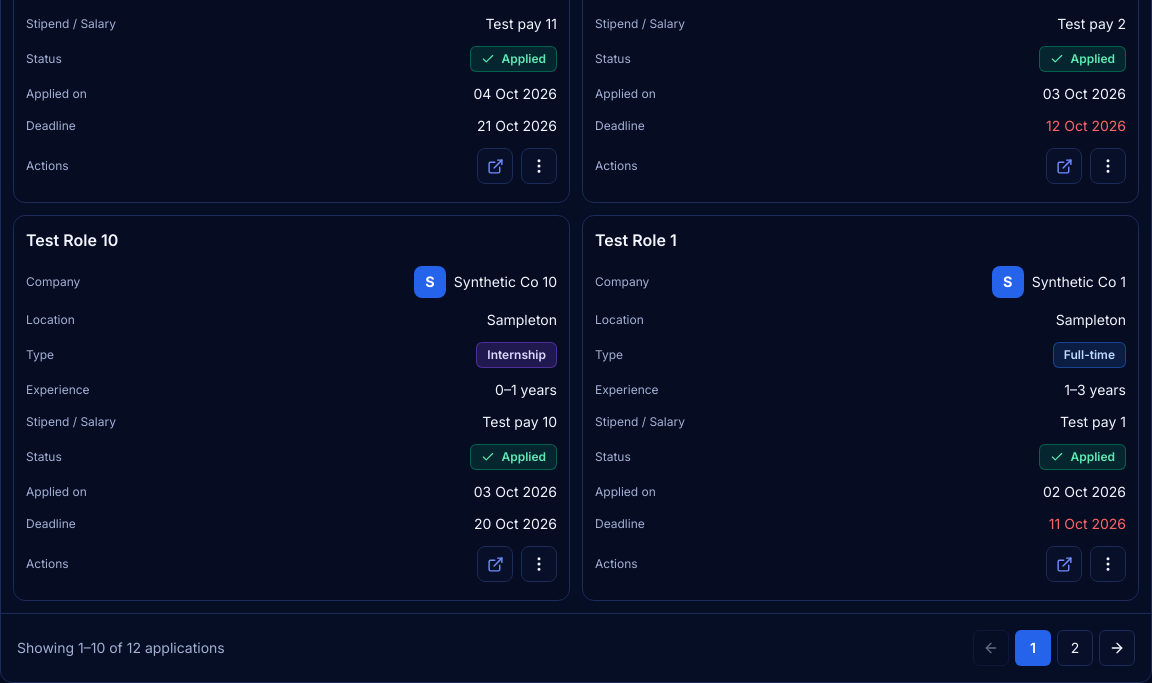
Test case: My Applications: table › paginates long lists
(page scrolled)
Click the button named "Next page" at (1117,648), box top-left (1099, 630), bottom-right (1135, 666)
(page scrolled)
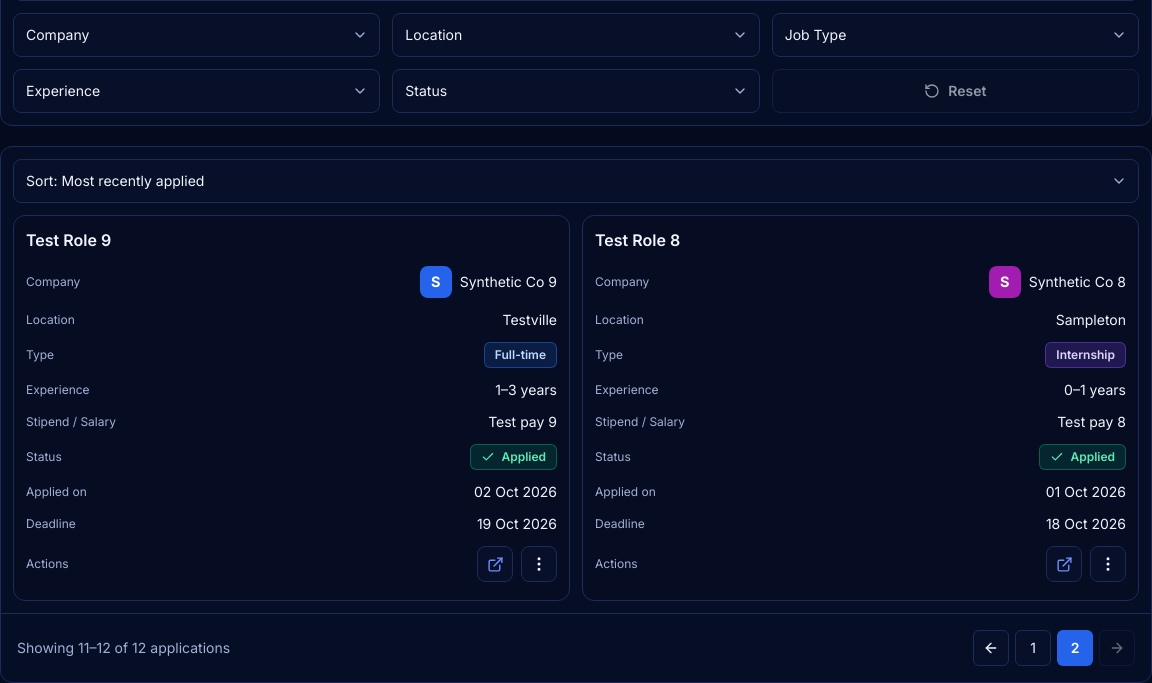
Expected: the text "Showing 11–12 of 12 applications" is shown, top-left (17, 638), bottom-right (230, 658)
